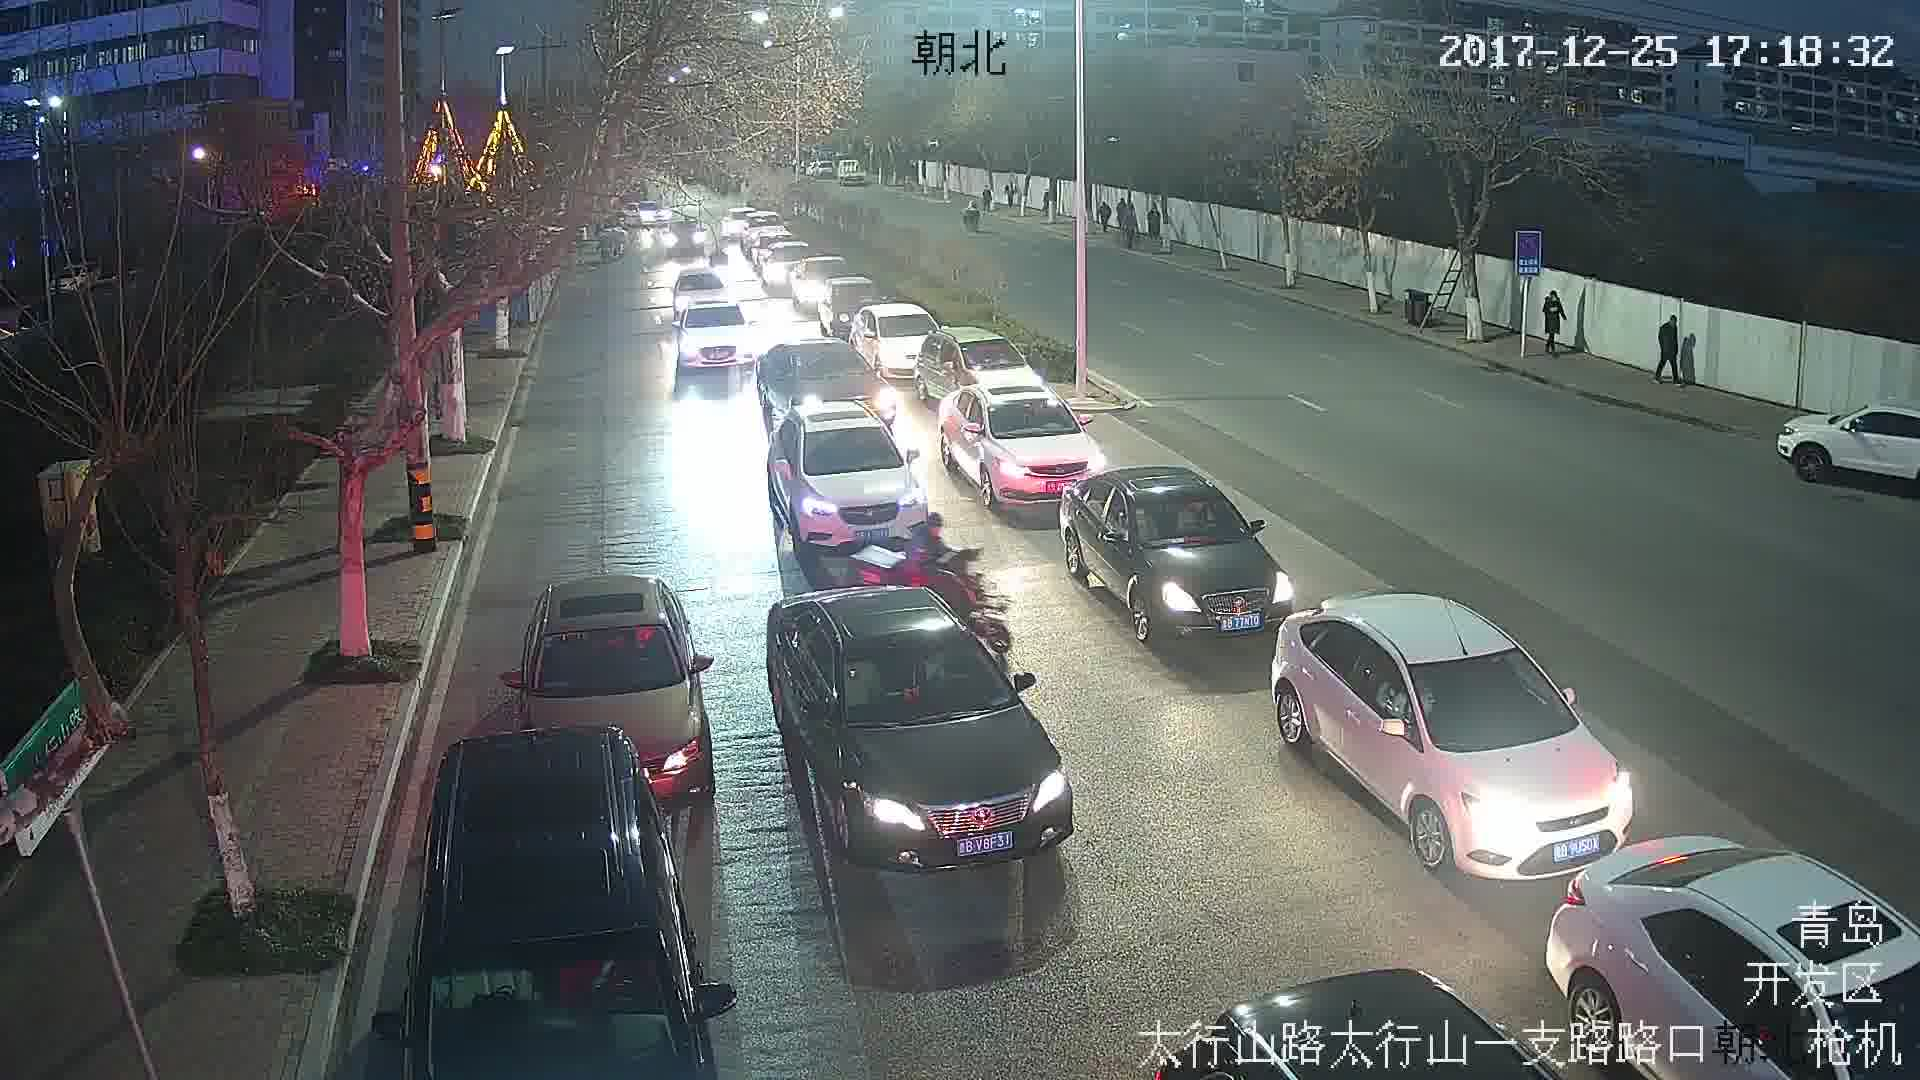car: (1270, 582, 1634, 885), (763, 584, 1078, 870), (509, 573, 721, 802), (1060, 471, 1310, 639), (767, 409, 942, 539), (939, 380, 1113, 498), (846, 305, 942, 381), (668, 300, 756, 374)
person: (1656, 313, 1680, 382), (1543, 288, 1563, 356)
